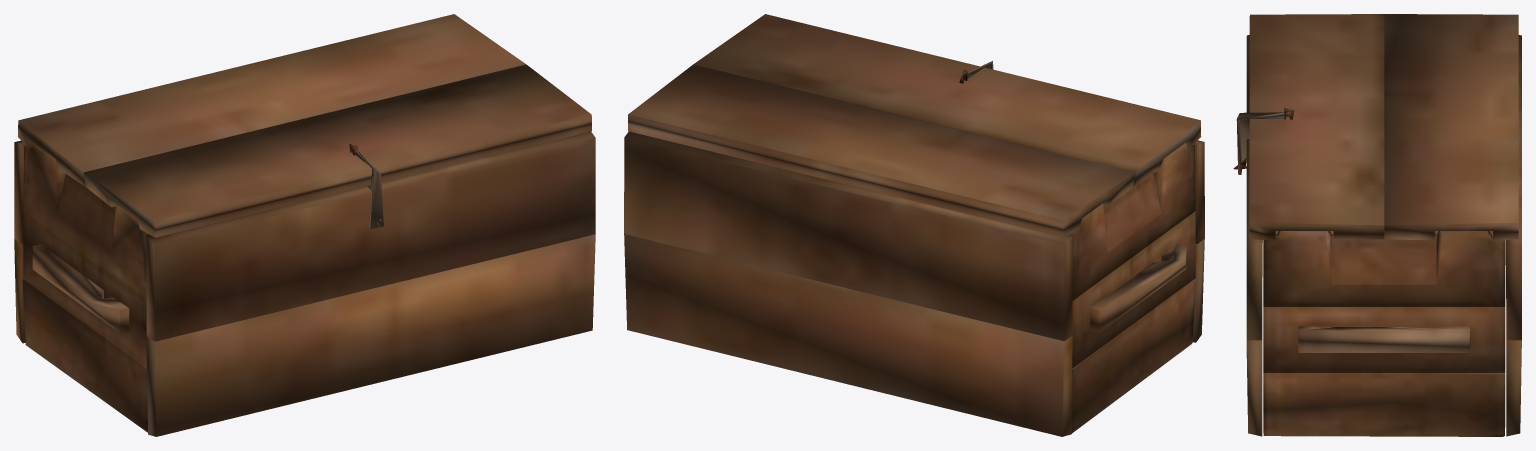
File: caisse_bois_lod2.glb
3 views of the same model, side by side, from view 1: azimuth 30°, elevation 25°; view 2: azimuth 150°, elevation 25°; view 3: azimuth 270°, elevation 25° (orthographic). The views are drawn at different scales.
Visible parts, largest first — view 1: wooden_crate_01_lid; view 2: wooden_crate_01_lid; view 3: wooden_crate_01_lid.
Boxes of the visible parts, x1=… form: wooden_crate_01_lid: x1=14, y1=14, x2=595, y2=436; wooden_crate_01_lid: x1=624, y1=14, x2=1204, y2=436; wooden_crate_01_lid: x1=1233, y1=14, x2=1521, y2=436.
Size of the model in its own units: 0.746 by 0.3468 by 0.4043.
1 material, 1 textured.
